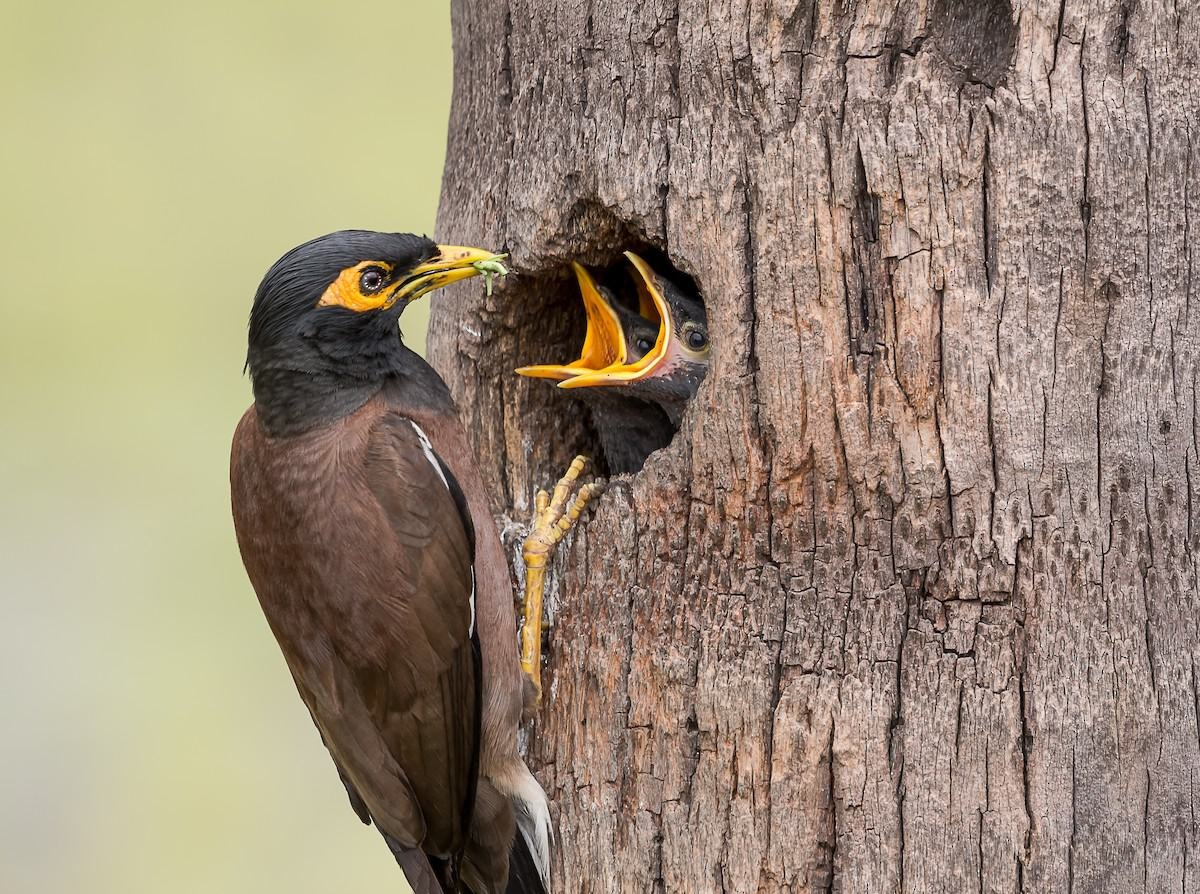myna: (203, 201, 554, 894), (611, 238, 731, 442)
